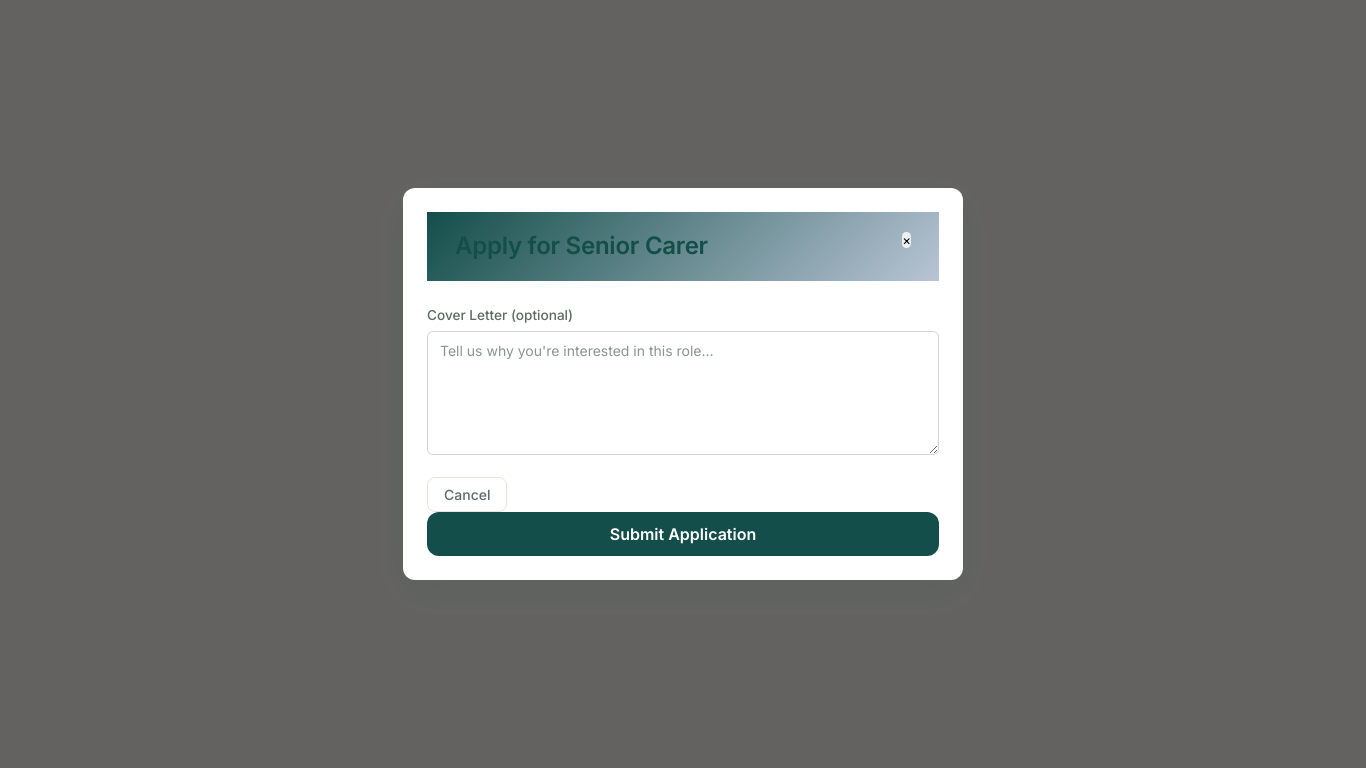
it: ApplicationForm › shows error on duplicate application (409)
Click the button "Submit Application". click: (683, 534)
box: [427,512,939,556]
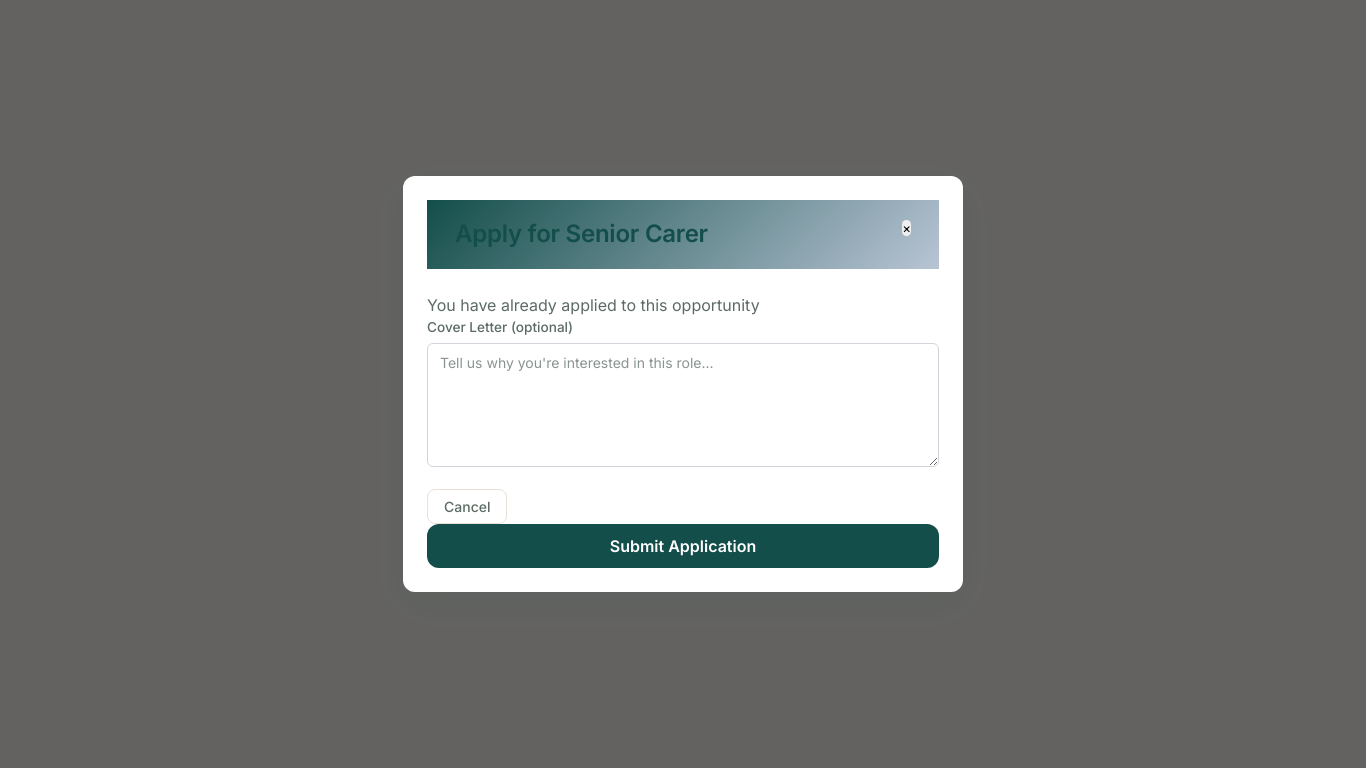
Check: the text "You have already applied to this opportunity" is shown, box [427,295,760,315]
